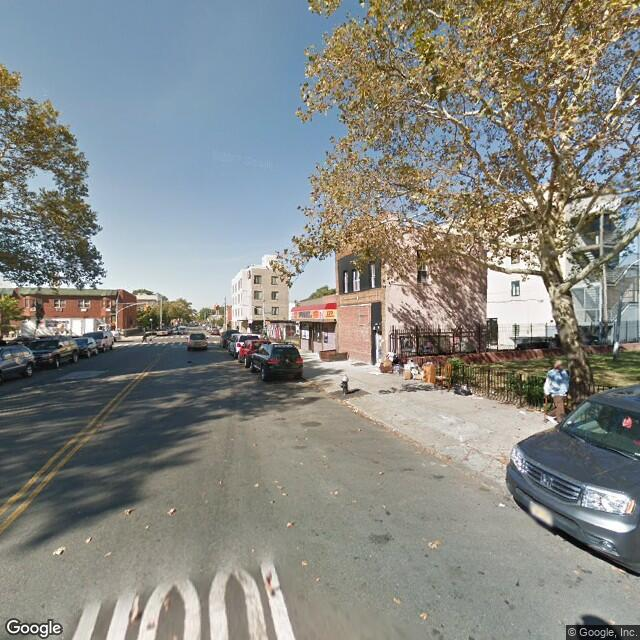litter: (519, 408, 528, 417), (370, 368, 380, 376), (496, 500, 506, 506)
